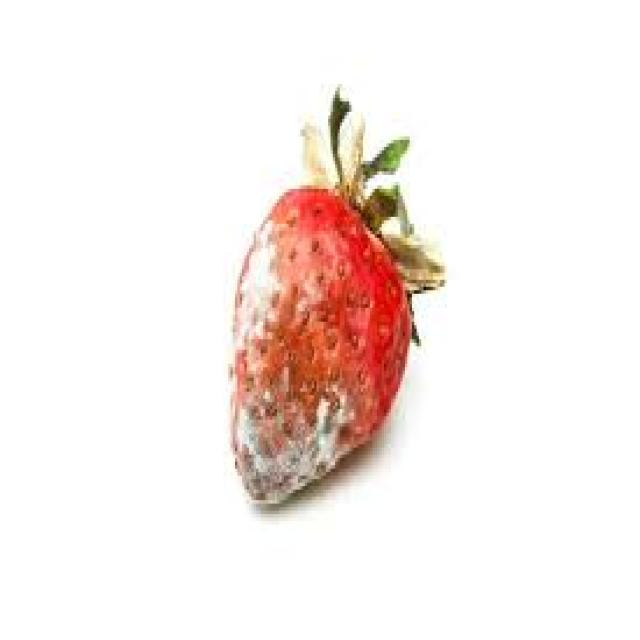Strawberries: (240, 193, 412, 491)
